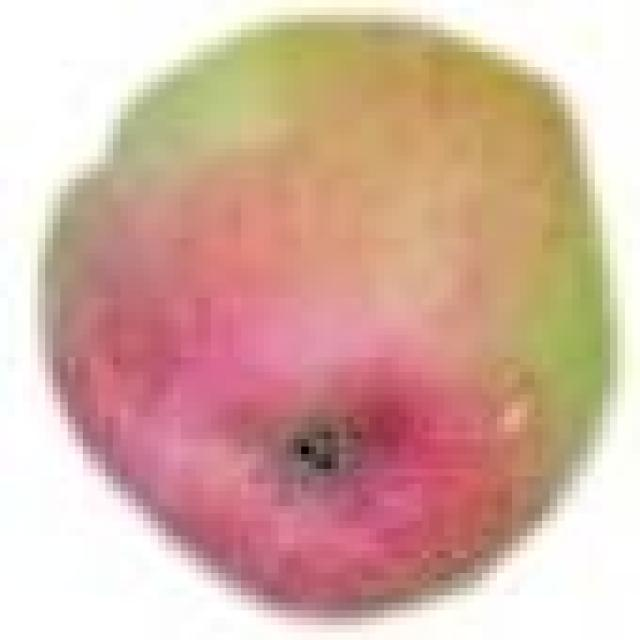Rotten Apple: (34, 15, 614, 610)
